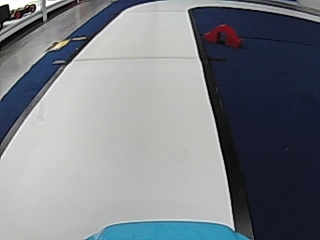bridge: (204, 22, 241, 46)
